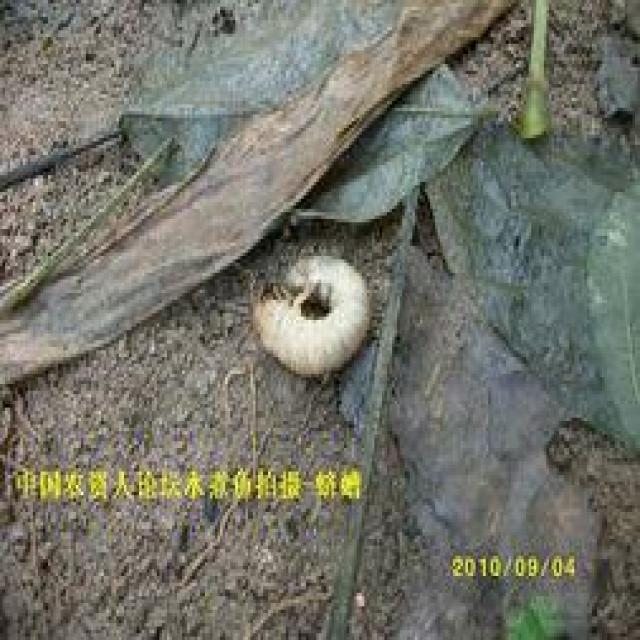Grub-Adult-: (245, 256, 376, 377)
